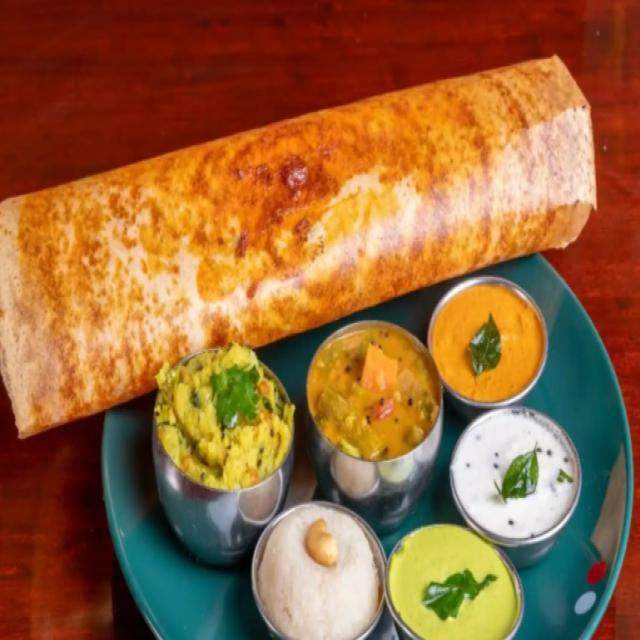CURRY: (153, 343, 294, 489)
DOSA: (0, 56, 596, 436)
GREEN CHUTNEY: (388, 525, 521, 639)
RED CHUTNEY: (429, 283, 546, 405)
SAMBAR: (308, 326, 441, 461)
SWEET: (257, 504, 384, 639)
WHITE CHUTNEY: (450, 408, 581, 564)
